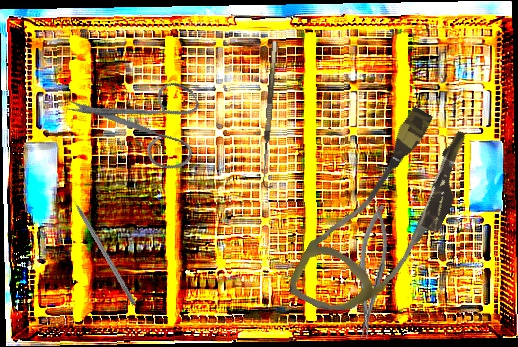Cannula: (284, 93, 485, 341)
Hook Surgical: (66, 188, 138, 306), (259, 40, 286, 189)
Iris Scissors: (62, 46, 222, 203)
Needle Holder: (347, 203, 395, 340)
